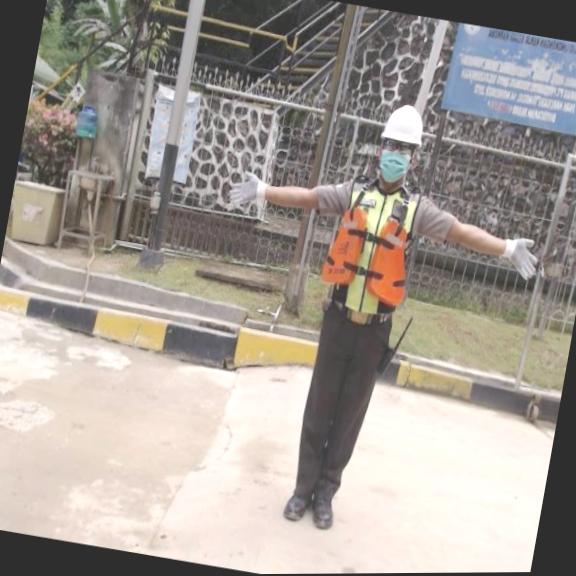safety_vest: (316, 199, 419, 310)
